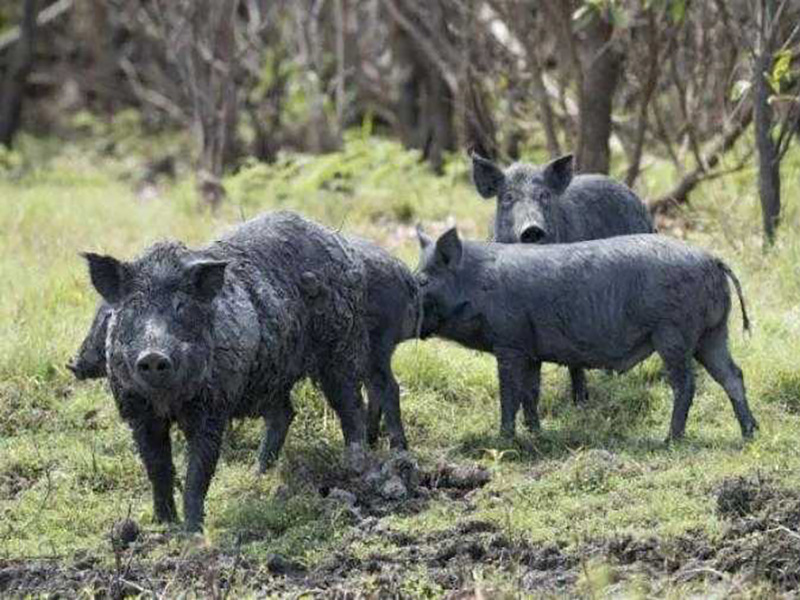cervo: (403, 228, 775, 449)
cinghiale: (87, 227, 256, 539), (268, 196, 372, 489), (465, 148, 656, 231)
